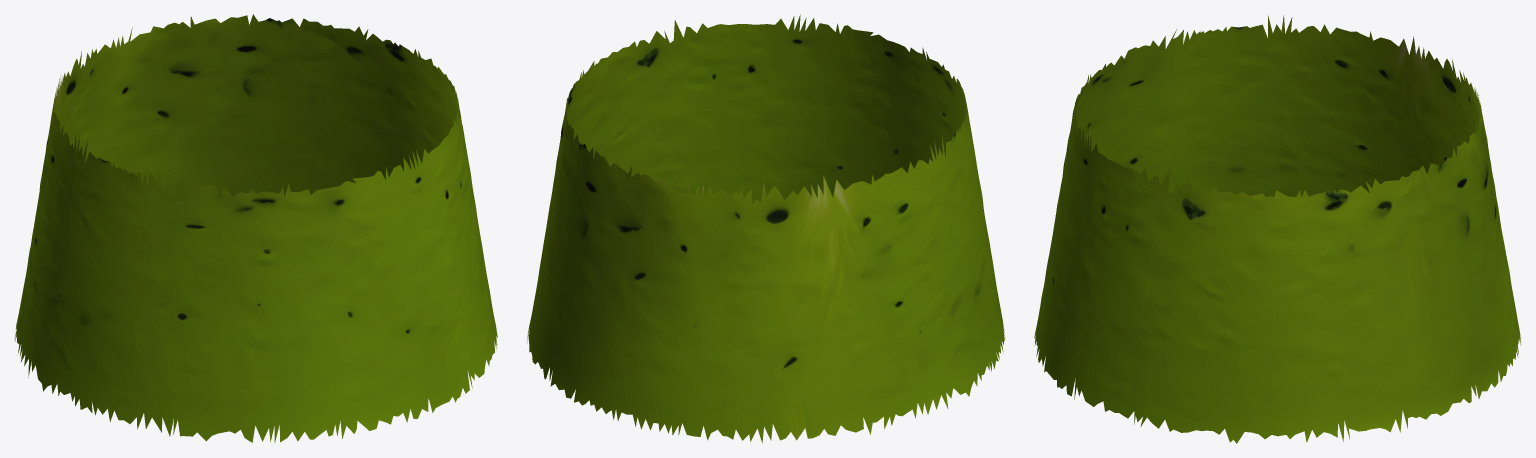
File: matcha_isi.obj
3 views of the same model, side by side, from view 1: azimuth 30°, elevation 25°; view 2: azimuth 150°, elevation 25°; view 3: azimuth 270°, elevation 25° (orthographic).
Parts seen in each view (by area): view 1: matcha_isi; view 2: matcha_isi; view 3: matcha_isi.
Part boxes in pixels (box(x1,y1,x2,y2)): matcha_isi: box(14, 14, 497, 443); matcha_isi: box(527, 14, 1005, 443); matcha_isi: box(1034, 15, 1521, 443).
Size of the model in its own units: 0.8385 by 0.4867 by 0.858.
1 material, 1 textured.
